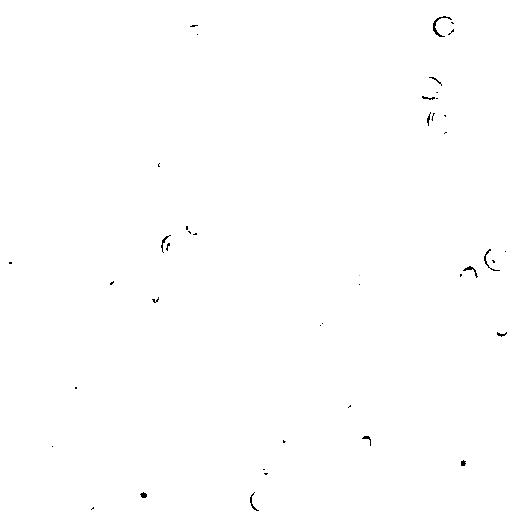micro-algae: (105, 20, 258, 166), (334, 281, 440, 391), (393, 55, 450, 108), (117, 433, 173, 485), (169, 403, 216, 451), (102, 0, 153, 41), (79, 254, 123, 301), (8, 26, 47, 66), (443, 443, 481, 482), (124, 476, 161, 511), (385, 283, 418, 315), (427, 103, 459, 135), (247, 458, 280, 489), (309, 313, 343, 342), (481, 245, 510, 274), (273, 427, 302, 455), (140, 241, 170, 267), (205, 41, 233, 68), (3, 150, 31, 177), (161, 233, 186, 263), (401, 2, 427, 30), (462, 223, 490, 249), (431, 261, 459, 286), (1, 248, 25, 277), (137, 413, 161, 440), (155, 151, 179, 177), (418, 76, 443, 100), (77, 463, 99, 490), (431, 15, 455, 39), (340, 266, 364, 290), (456, 264, 478, 290), (38, 425, 59, 451), (113, 75, 135, 97), (248, 490, 271, 511), (109, 0, 138, 16), (361, 235, 385, 253), (63, 370, 83, 391), (51, 129, 72, 148), (489, 319, 510, 337), (184, 22, 203, 41), (144, 286, 163, 305), (342, 399, 360, 419), (184, 218, 203, 236), (373, 251, 393, 268), (77, 244, 93, 263), (76, 497, 97, 511), (168, 474, 185, 491), (107, 279, 123, 296), (360, 434, 373, 451), (506, 417, 512, 437)
